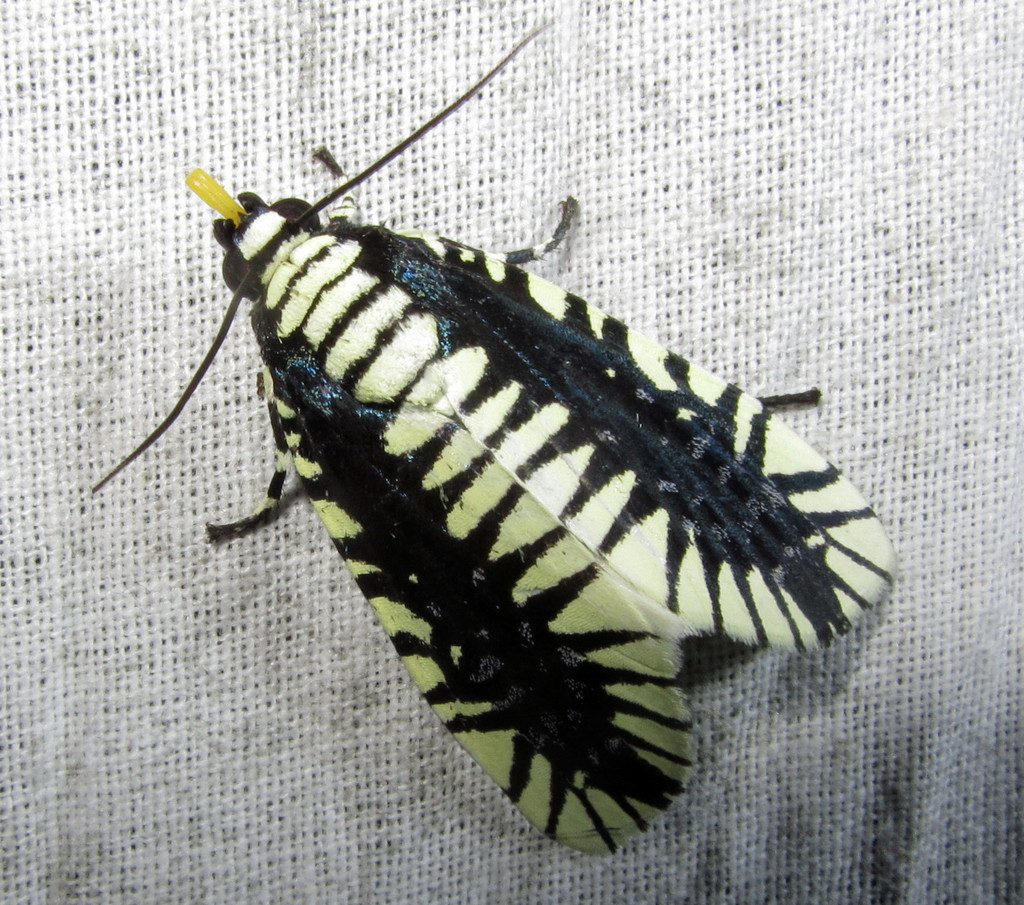Butterfly: (145, 107, 906, 876)
